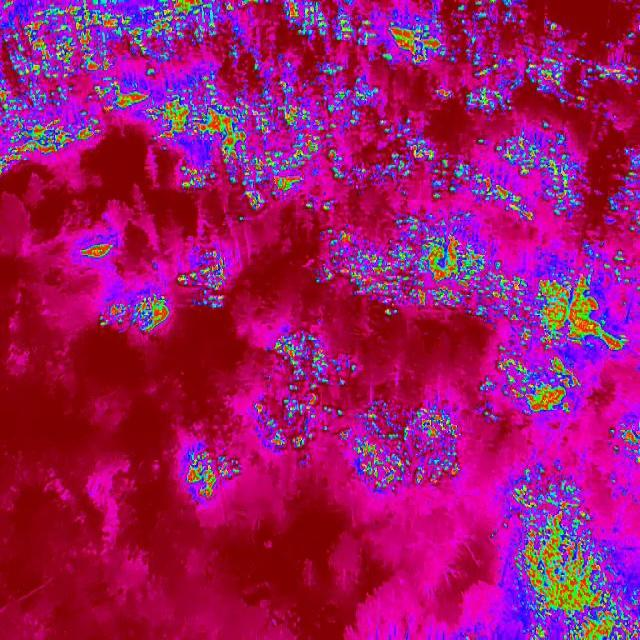fire: (0, 0, 640, 191), (308, 190, 640, 318), (497, 461, 640, 640), (479, 318, 640, 419), (246, 329, 358, 462), (343, 400, 463, 500), (101, 292, 174, 341), (179, 444, 242, 498), (176, 248, 226, 308), (237, 190, 283, 226), (603, 421, 640, 462), (80, 233, 114, 266)
